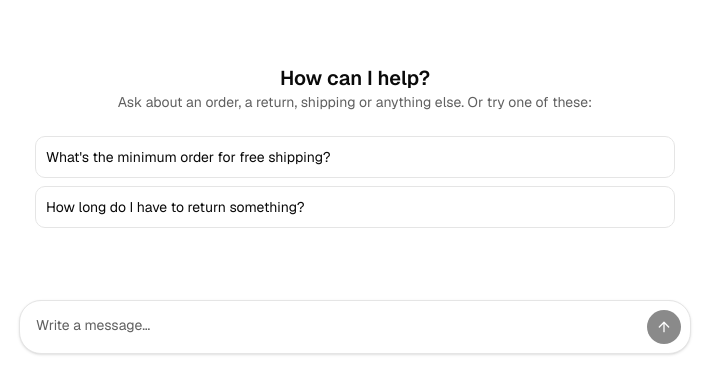
Test: ChatPage › sends a message and shows the answer with its source
In the text box labelled "message": (337, 327) [36,309,638,345], type "What is the free shipping minimum?"
Then press Enter
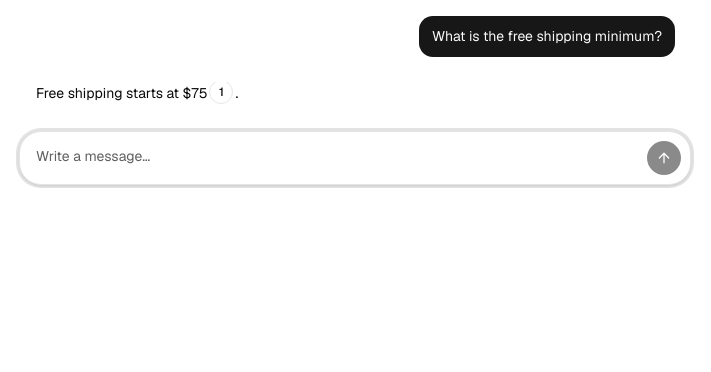
Check: the text "Free shipping starts at $75" is shown, box [36,84,207,102]
Check: the button "What is the free shipping minimum?" is shown, box [419,16,675,57]
Check: the button named "Source 1: Shipping" is shown, box [209,81,233,104]
